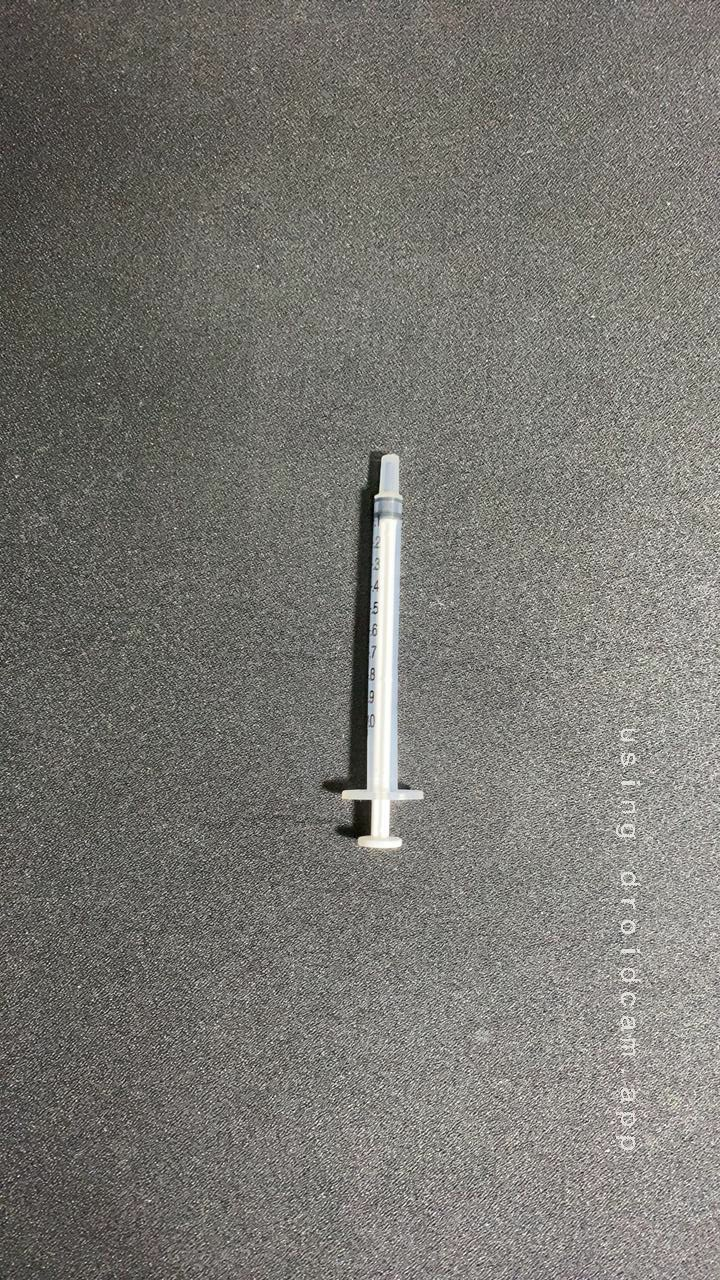syringe: (302, 428, 457, 858)
